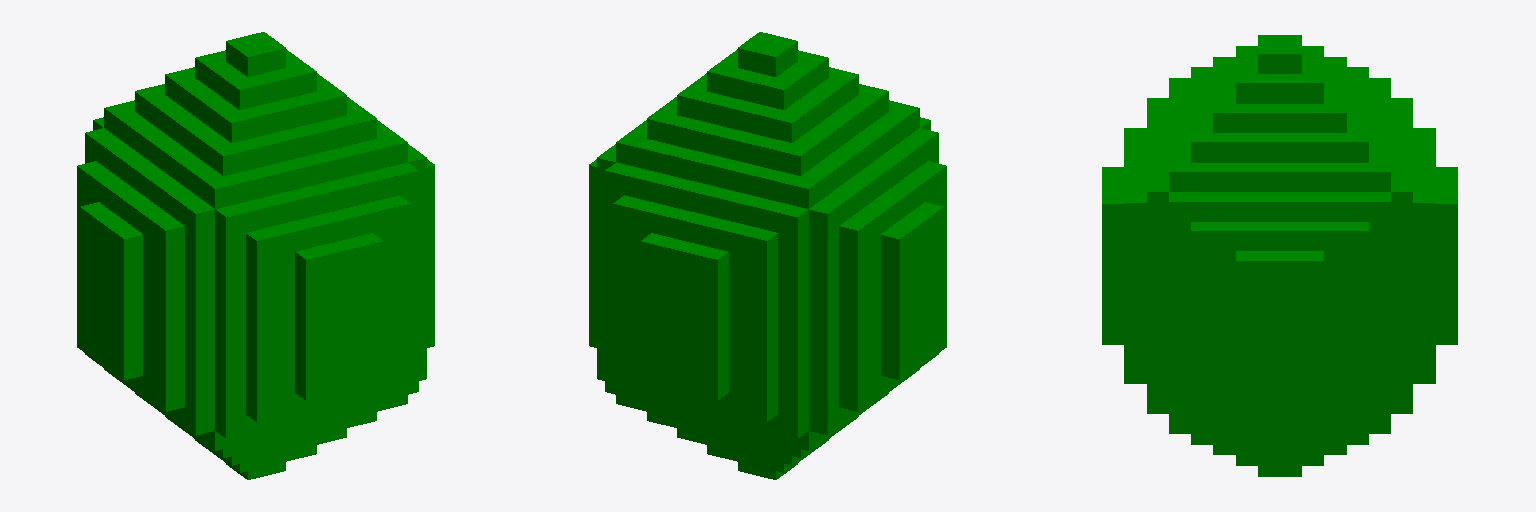
The picture shows the model from 3 angles: view 1: azimuth 30°, elevation 25°; view 2: azimuth 150°, elevation 25°; view 3: azimuth 270°, elevation 25°; orthographic projection.
Visible parts, largest first — view 1: object 1; view 2: object 1; view 3: object 1.
Boxes of the visible parts, x1,y1,x2,y2 form: object 1: [77, 32, 434, 479]; object 1: [589, 32, 946, 479]; object 1: [1102, 35, 1457, 476].
Size of the model in its own units: 1.6 by 2.1 by 1.6.
1 materials, 1 textured.